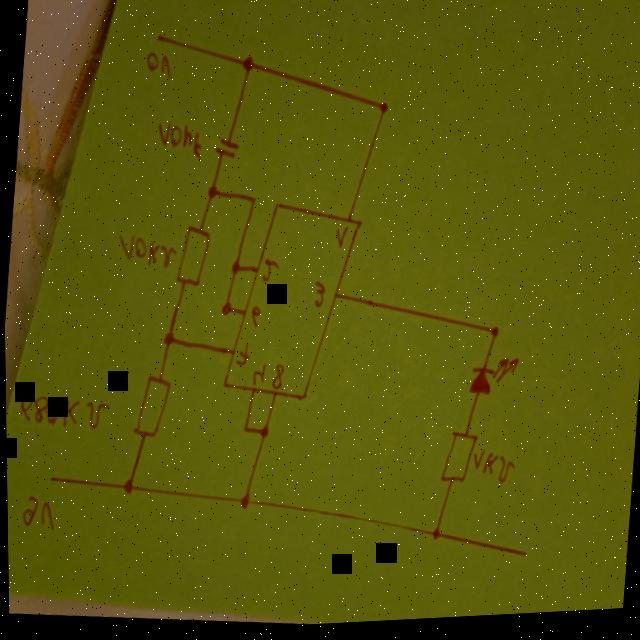capacitor: (211, 137, 238, 163)
diode: (464, 358, 518, 402)
junction: (239, 57, 254, 76), (118, 477, 132, 497), (235, 494, 248, 514), (159, 332, 174, 349), (204, 185, 217, 203), (217, 302, 230, 320), (256, 425, 267, 442), (227, 262, 238, 278), (376, 103, 387, 119), (486, 329, 497, 343), (428, 530, 438, 545), (245, 196, 256, 208), (238, 426, 247, 437)
resistor: (128, 373, 169, 441), (172, 225, 210, 291), (437, 433, 475, 490)
terminal: (511, 550, 526, 566), (152, 32, 163, 45), (44, 473, 54, 485)
text: (15, 388, 109, 435), (113, 230, 176, 274), (153, 121, 203, 163), (467, 451, 515, 492), (17, 493, 54, 534), (142, 52, 172, 82), (259, 259, 277, 287), (266, 365, 283, 394), (331, 227, 348, 252), (232, 344, 248, 370), (248, 364, 264, 390), (310, 283, 324, 312), (246, 307, 260, 331)
